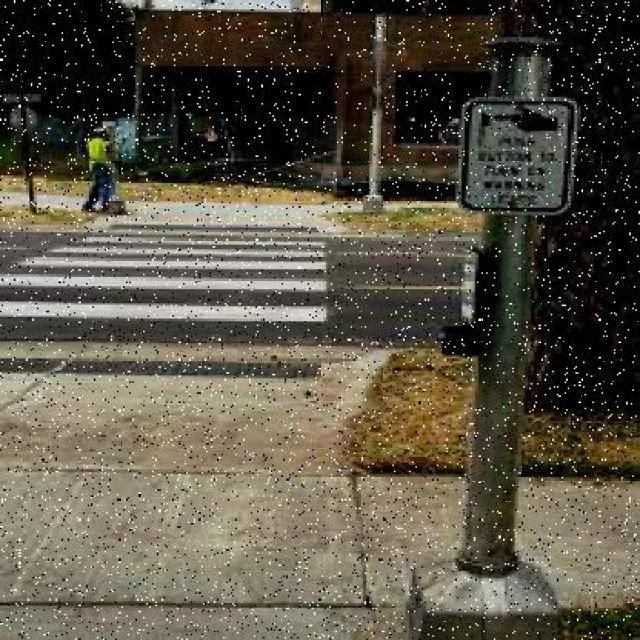crosswalk: (0, 208, 334, 351)
